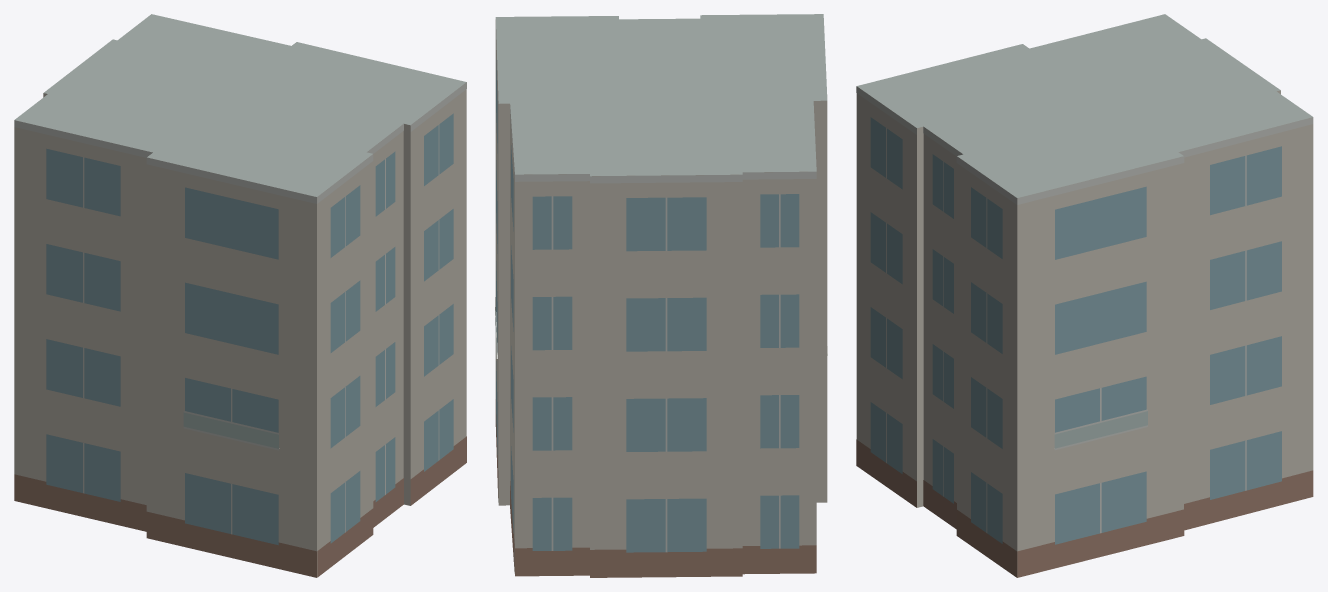
File: survey-upis-32762791.glb
3 renders of one model, left to right at view 1: azimuth 30°, elevation 25°; view 2: azimuth 150°, elevation 25°; view 3: azimuth 270°, elevation 25°, orthographic. The views are drawn at different scales.
Visible parts, largest first — view 1: survey-upis-32762791.tmp; view 2: survey-upis-32762791.tmp; view 3: survey-upis-32762791.tmp.
Part boxes in pixels (box(x1,y1,x2,y2)): survey-upis-32762791.tmp: box(14, 14, 466, 577); survey-upis-32762791.tmp: box(495, 14, 827, 577); survey-upis-32762791.tmp: box(856, 14, 1313, 577).
Bounding box in the file's own units: 13.94 × 13.4 × 14.62.
